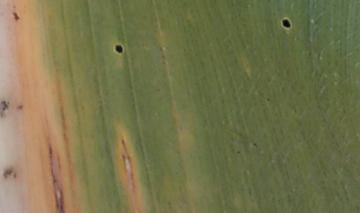tarspot: (2, 166, 15, 181), (280, 17, 292, 30), (113, 43, 124, 55), (1, 99, 11, 112), (11, 10, 20, 22), (14, 103, 26, 112), (119, 137, 127, 147), (251, 140, 258, 148), (264, 95, 270, 104), (12, 172, 18, 181), (235, 149, 241, 156)
